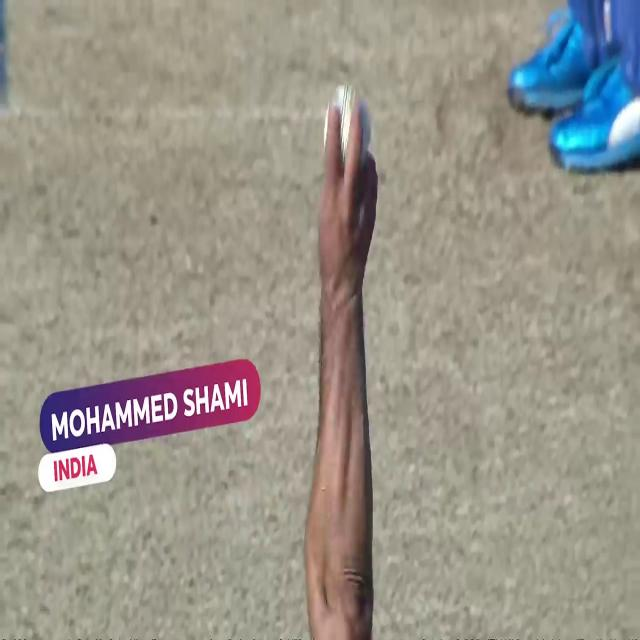ball: (324, 83, 372, 177)
